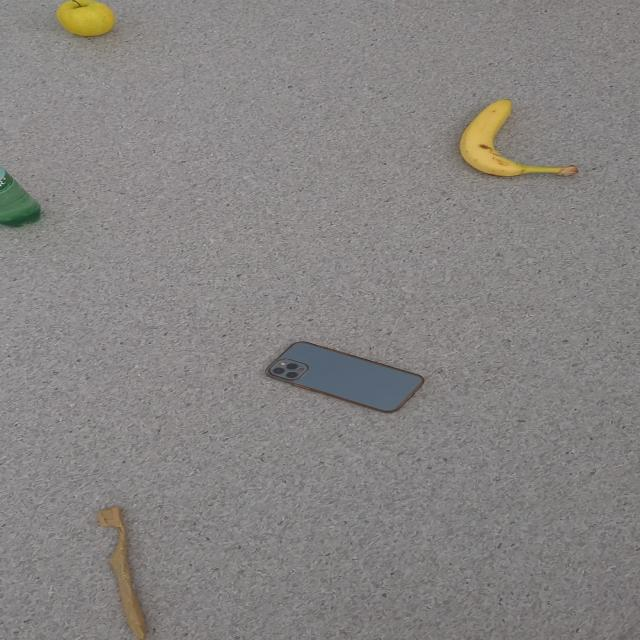apple: (56, 0, 115, 37)
banana: (458, 99, 578, 178)
bottle: (0, 167, 41, 227)
phone: (264, 340, 425, 414)
toothbrush: (95, 506, 147, 639)
